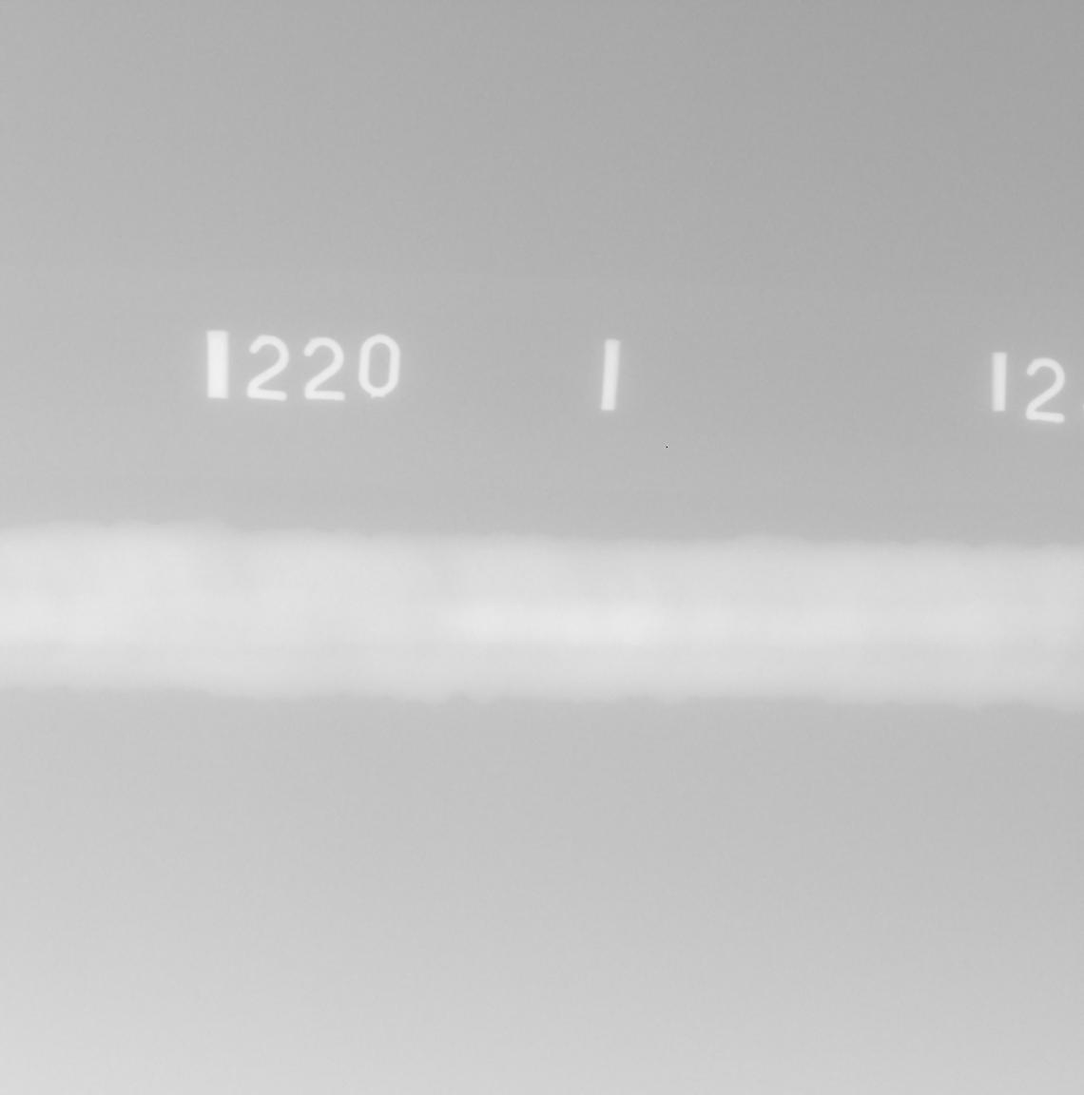Pore/Porosity: (1032, 638, 1037, 644)
